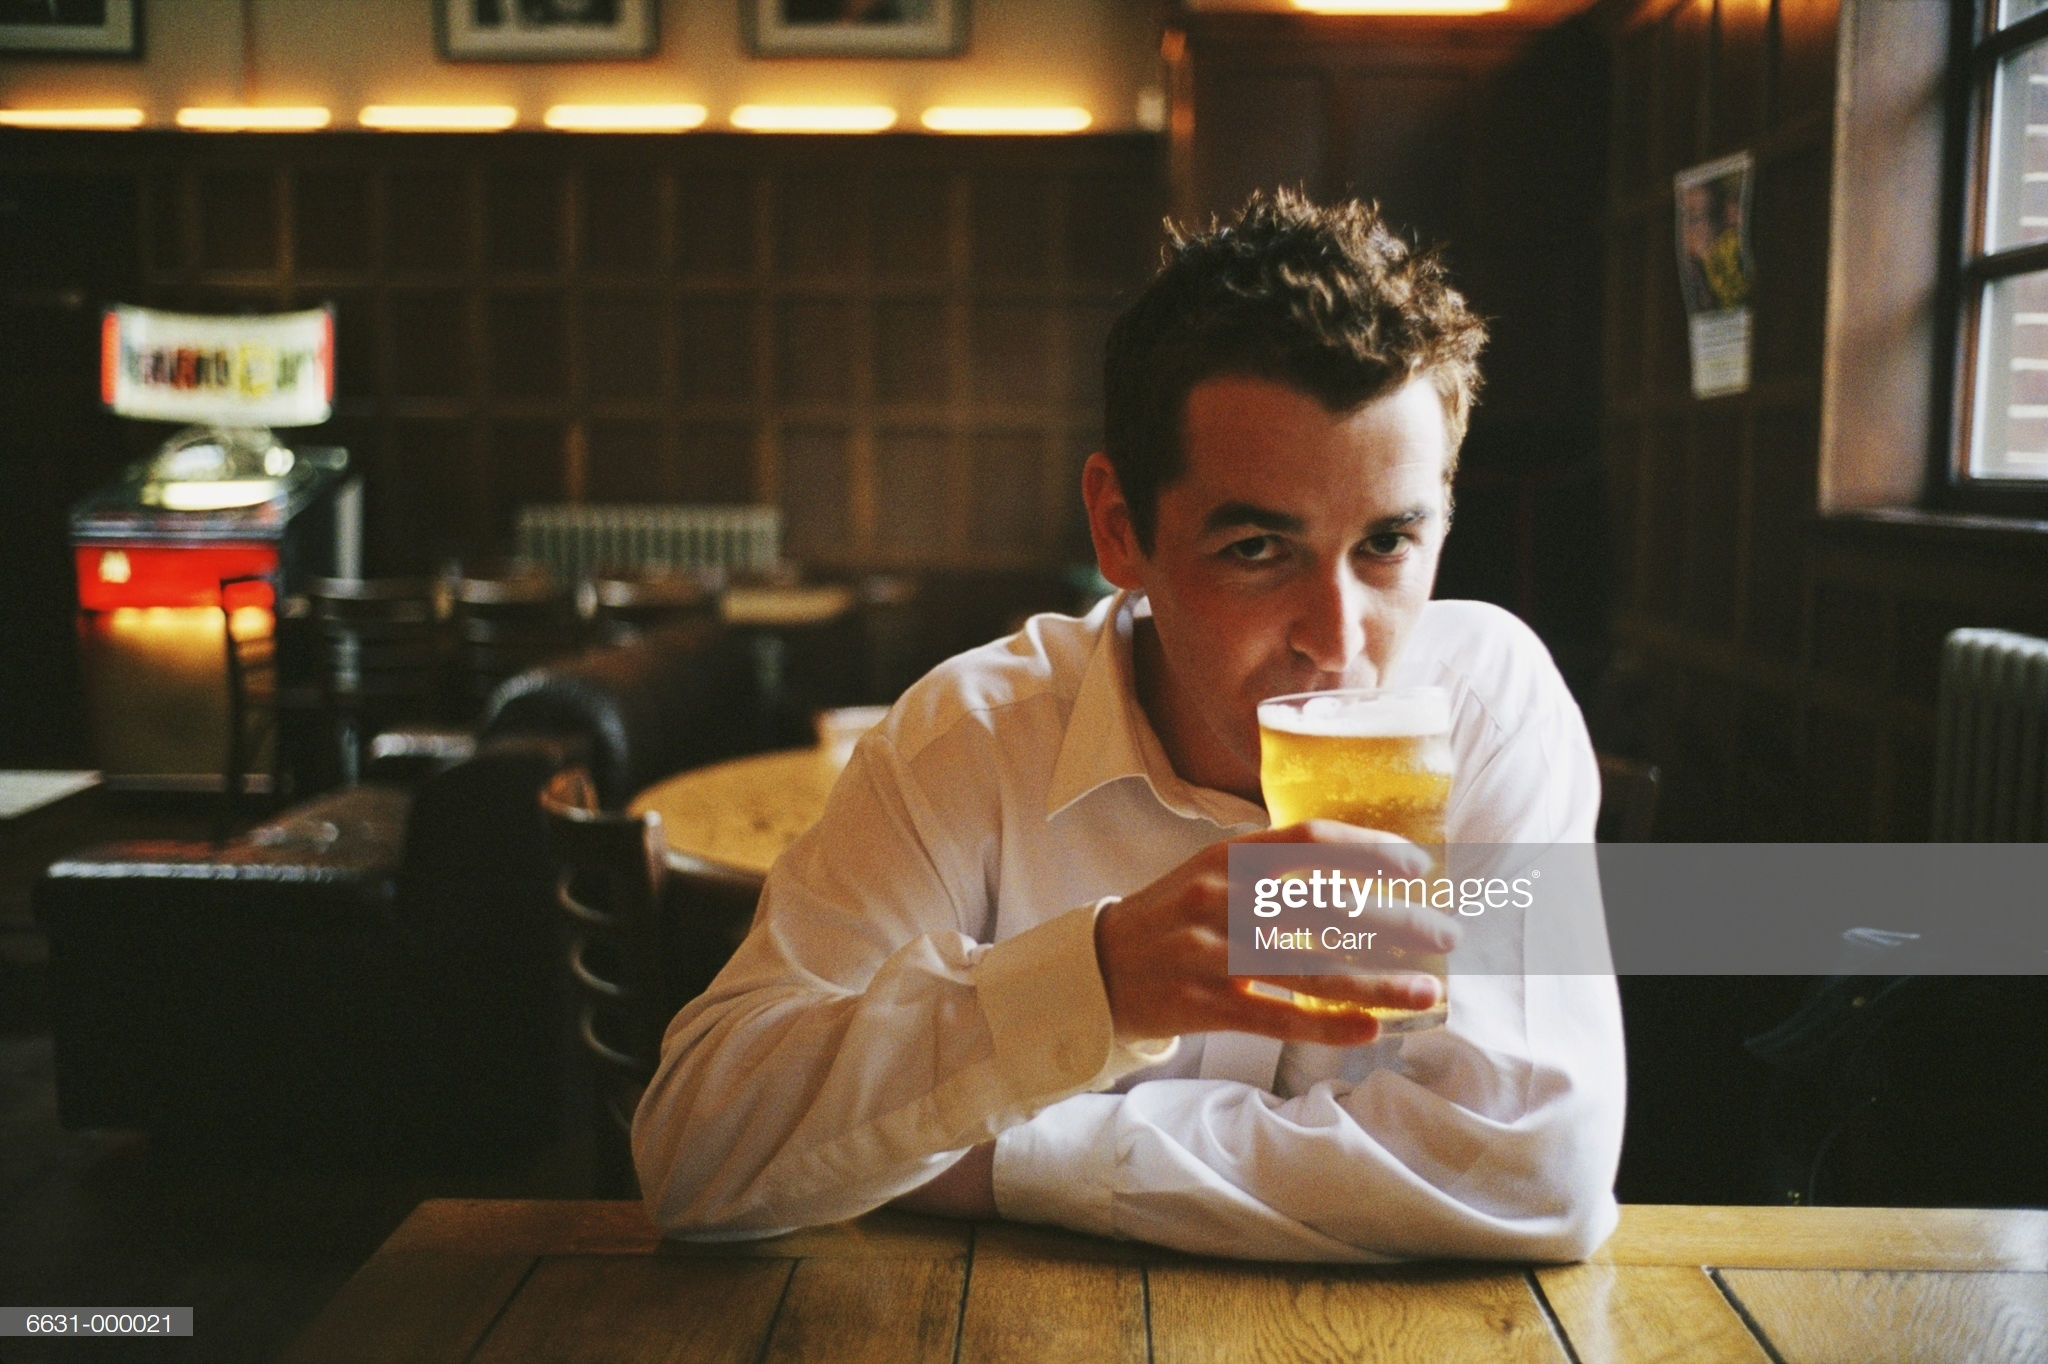glassBeer: (1267, 680, 1462, 1015)
